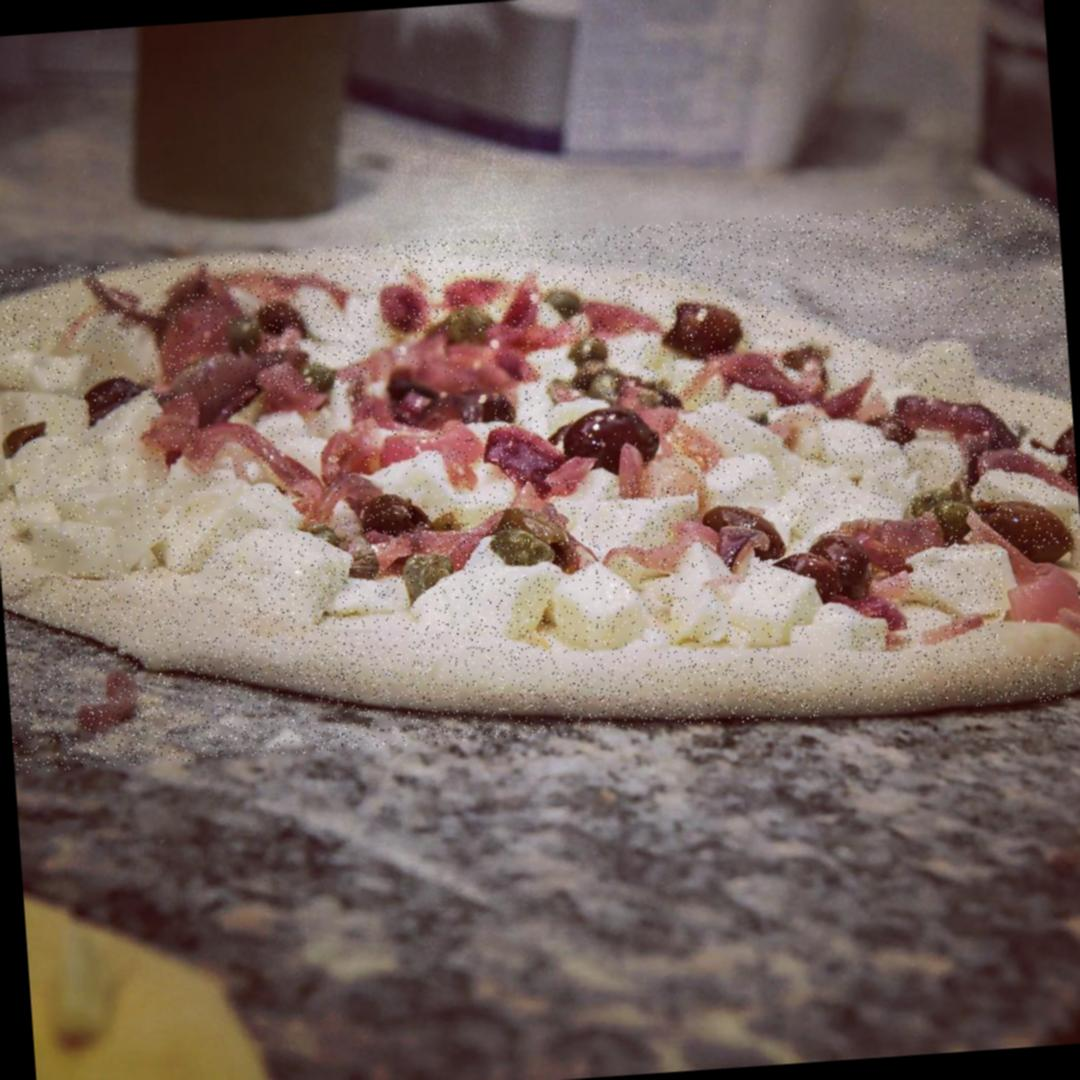Cheese: (163, 496, 554, 651), (0, 342, 161, 577), (550, 554, 856, 672), (706, 388, 899, 538)
Ham: (145, 378, 500, 524), (127, 276, 270, 396), (369, 329, 525, 408), (1000, 552, 1080, 658)
Olives: (556, 396, 669, 483), (976, 490, 1080, 559), (653, 286, 741, 362), (694, 501, 788, 569), (811, 529, 890, 601), (78, 374, 152, 421)
Pizza: (0, 196, 1080, 773)
